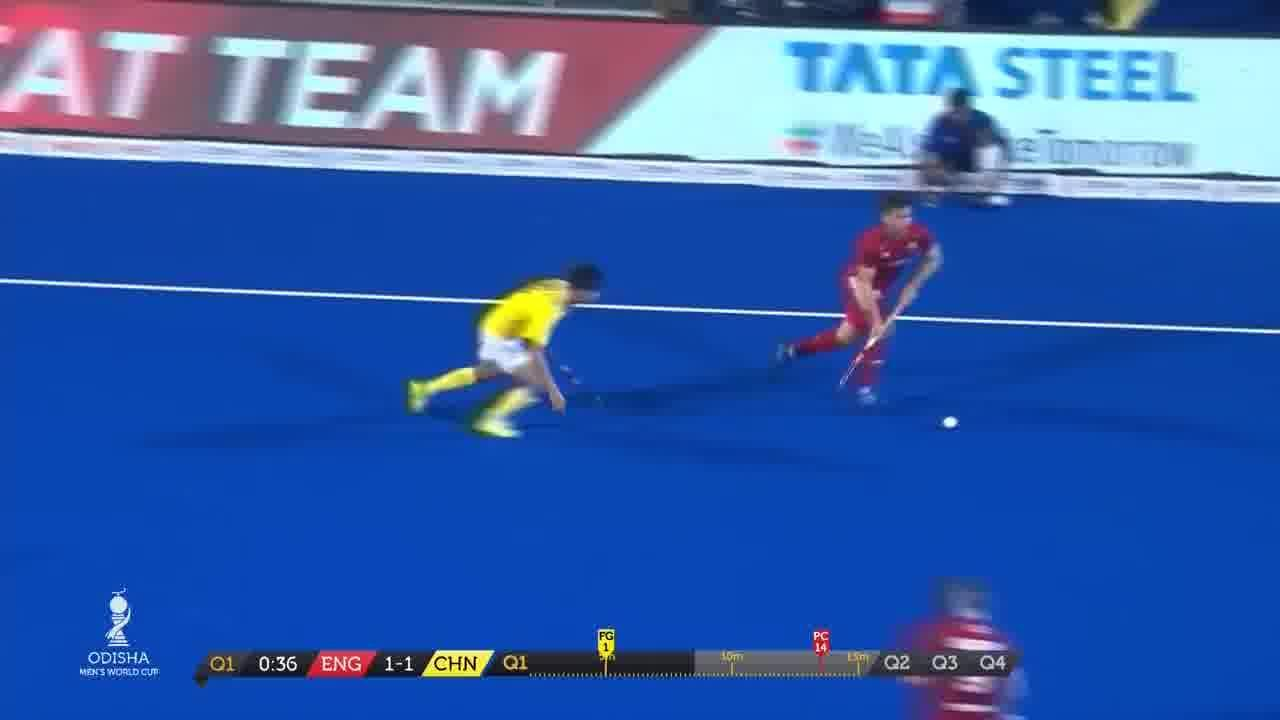ball: (931, 402, 965, 435)
